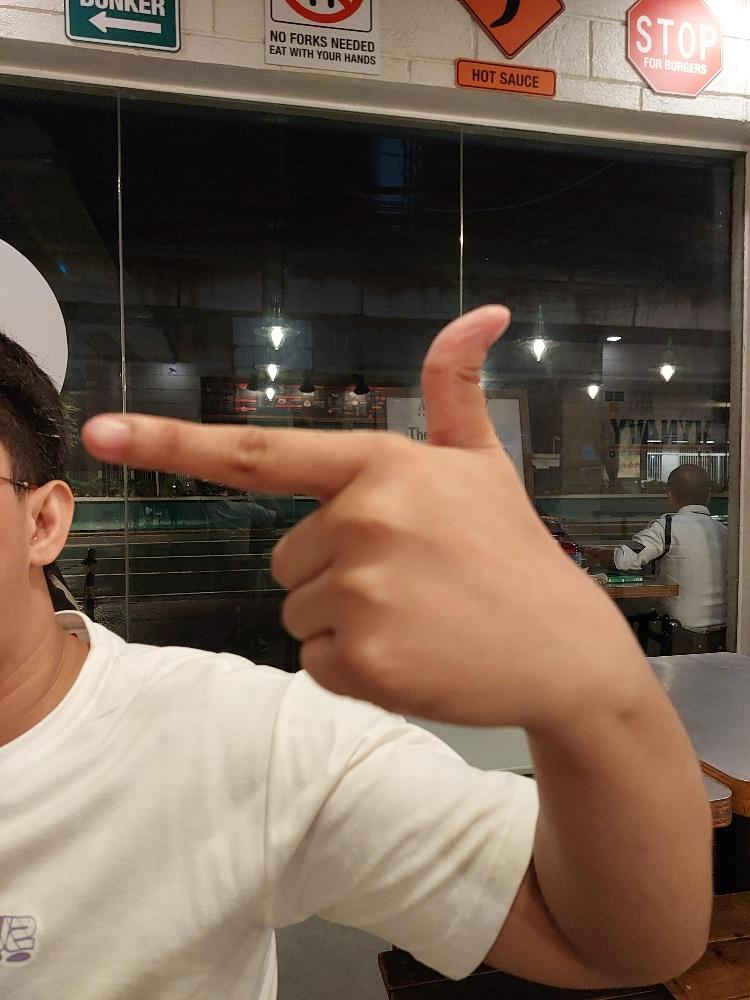g: (78, 302, 616, 728)
